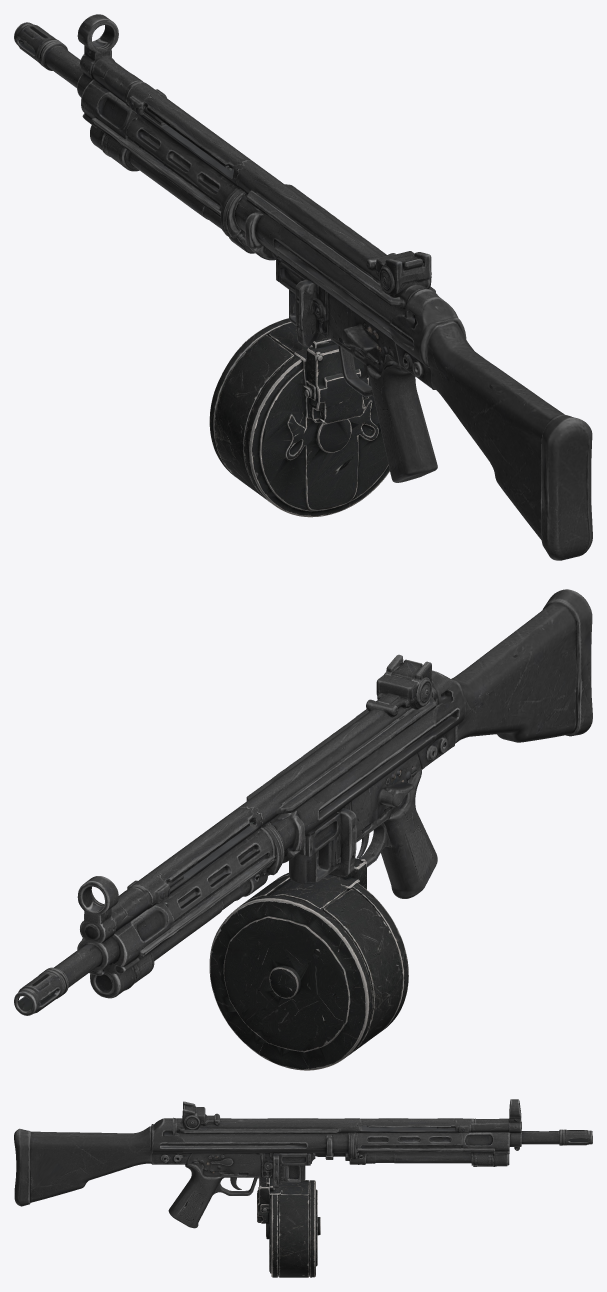
3 views of the same model, one above another, from view 1: azimuth 30°, elevation 25°; view 2: azimuth 150°, elevation 25°; view 3: azimuth 270°, elevation 25° (orthographic). The views are drawn at different scales.
Visible parts, largest first — view 1: Body, Magazine; view 2: Body, Magazine; view 3: Body, Magazine.
Boxes of the visible parts, box(x1,y1,x2,y2) form: Body: box(14, 14, 592, 560); Magazine: box(209, 318, 389, 517); Body: box(14, 589, 592, 1015); Magazine: box(209, 858, 408, 1070); Body: box(14, 1099, 592, 1228); Magazine: box(257, 1177, 320, 1277).
Bounding box in the file's own units: 0.1701 × 0.3353 × 1.02.
Materials: 2 (2 with a texture image).
